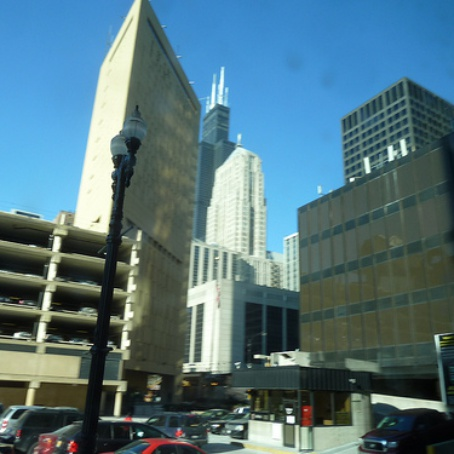building: (80, 6, 209, 372), (302, 133, 454, 371), (1, 209, 142, 387), (201, 59, 269, 281), (193, 261, 304, 372), (335, 83, 454, 177)
car: (360, 403, 447, 449), (150, 402, 210, 454)
light pole: (73, 104, 152, 454)
